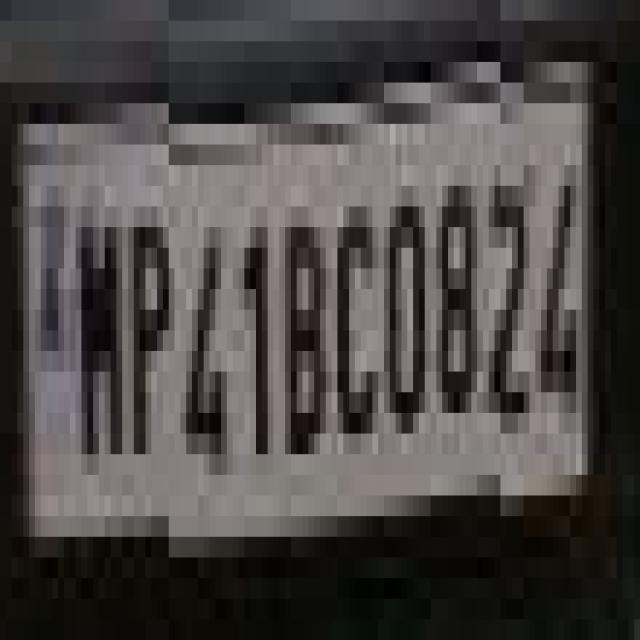license_plate: (6, 83, 605, 578)
